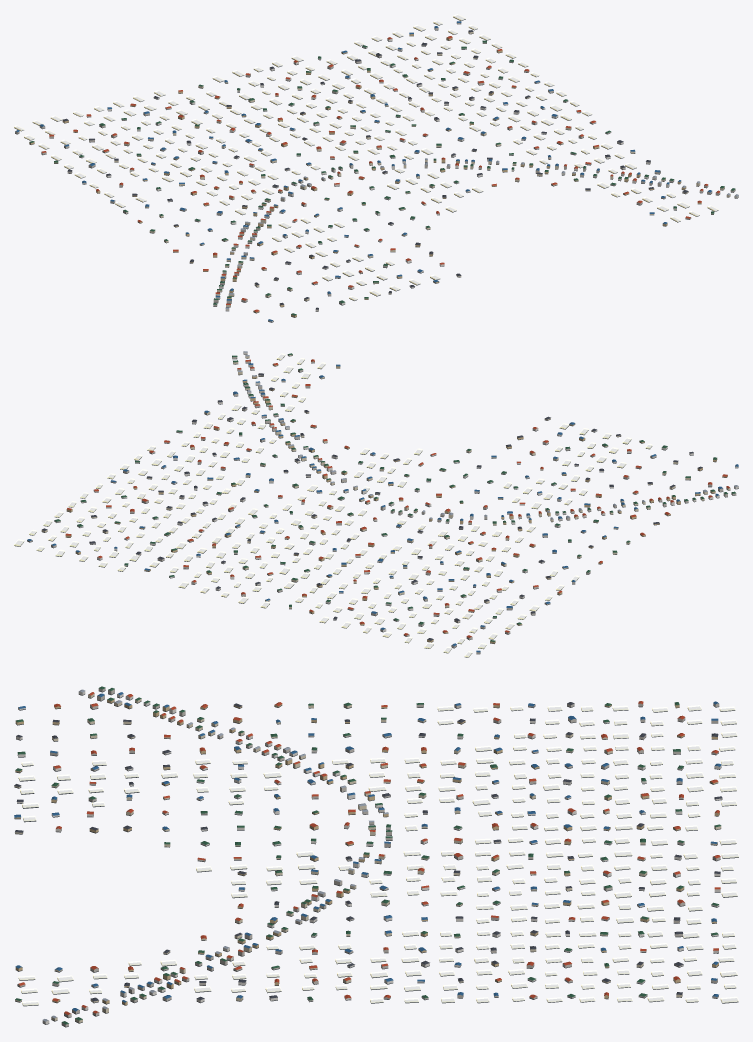
The model's file is buildings_T_W04_N05.glb.
3 renders of one model, top to bottom at view 1: azimuth 30°, elevation 25°; view 2: azimuth 150°, elevation 25°; view 3: azimuth 270°, elevation 25°, orthographic. The views are drawn at different scales.
Visible parts, largest first — view 1: T_W04_N05_roofs_agri_greenhouse_arch, T_W04_N05_slope_seating_foundations, T_W04_N05_walls_wall_pastel_sand_gray, T_W04_N05_walls_wall_modern_warm_white, T_W04_N05_roofs_roof_terracotta_gable, T_W04_N05_roofs_roof_pine_green_hip, T_W04_N05_walls_wall_french_ochre_villa, T_W04_N05_walls_wall_dalat_cream_stucco, T_W04_N05_roofs_roof_highland_blue_gable, T_W04_N05_roofs_roof_slate_French_villa_hip; view 2: T_W04_N05_roofs_agri_greenhouse_arch, T_W04_N05_slope_seating_foundations, T_W04_N05_walls_wall_pastel_sand_gray, T_W04_N05_walls_wall_french_ochre_villa, T_W04_N05_walls_wall_modern_warm_white, T_W04_N05_roofs_roof_terracotta_gable, T_W04_N05_roofs_roof_pine_green_hip, T_W04_N05_walls_wall_dalat_cream_stucco, T_W04_N05_roofs_roof_highland_blue_gable, T_W04_N05_roofs_roof_slate_French_villa_hip; view 3: T_W04_N05_roofs_agri_greenhouse_arch, T_W04_N05_slope_seating_foundations, T_W04_N05_walls_wall_pastel_sand_gray, T_W04_N05_walls_wall_modern_warm_white, T_W04_N05_walls_wall_french_ochre_villa, T_W04_N05_roofs_roof_terracotta_gable, T_W04_N05_roofs_roof_pine_green_hip, T_W04_N05_walls_wall_dalat_cream_stucco, T_W04_N05_roofs_roof_highland_blue_gable, T_W04_N05_roofs_roof_slate_French_villa_hip.
Part boxes in pixels (bbox=[...]): T_W04_N05_roofs_agri_greenhouse_arch: bbox=[14, 14, 718, 300]; T_W04_N05_slope_seating_foundations: bbox=[14, 16, 738, 322]; T_W04_N05_walls_wall_pastel_sand_gray: bbox=[15, 22, 735, 306]; T_W04_N05_walls_wall_modern_warm_white: bbox=[79, 38, 738, 322]; T_W04_N05_roofs_roof_terracotta_gable: bbox=[42, 36, 720, 311]; T_W04_N05_roofs_roof_pine_green_hip: bbox=[29, 40, 735, 315]; T_W04_N05_walls_wall_french_ochre_villa: bbox=[29, 34, 701, 317]; T_W04_N05_walls_wall_dalat_cream_stucco: bbox=[102, 31, 730, 306]; T_W04_N05_roofs_roof_highland_blue_gable: bbox=[15, 21, 711, 321]; T_W04_N05_roofs_roof_slate_French_villa_hip: bbox=[62, 30, 688, 309]; T_W04_N05_roofs_agri_greenhouse_arch: bbox=[14, 353, 652, 657]; T_W04_N05_slope_seating_foundations: bbox=[14, 354, 738, 657]; T_W04_N05_walls_wall_pastel_sand_gray: bbox=[27, 357, 736, 653]; T_W04_N05_walls_wall_french_ochre_villa: bbox=[65, 364, 727, 643]; T_W04_N05_walls_wall_modern_warm_white: bbox=[77, 351, 738, 631]; T_W04_N05_roofs_roof_terracotta_gable: bbox=[65, 359, 729, 637]; T_W04_N05_roofs_roof_pine_green_hip: bbox=[54, 353, 735, 641]; T_W04_N05_walls_wall_dalat_cream_stucco: bbox=[41, 354, 730, 612]; T_W04_N05_roofs_roof_highland_blue_gable: bbox=[27, 363, 738, 652]; T_W04_N05_roofs_roof_slate_French_villa_hip: bbox=[42, 373, 702, 640]; T_W04_N05_roofs_agri_greenhouse_arch: bbox=[18, 705, 738, 1005]; T_W04_N05_slope_seating_foundations: bbox=[14, 690, 738, 1027]; T_W04_N05_walls_wall_pastel_sand_gray: bbox=[17, 688, 720, 1026]; T_W04_N05_walls_wall_modern_warm_white: bbox=[16, 691, 722, 1024]; T_W04_N05_walls_wall_french_ochre_villa: bbox=[14, 699, 719, 1005]; T_W04_N05_roofs_roof_terracotta_gable: bbox=[18, 692, 720, 1014]; T_W04_N05_roofs_roof_pine_green_hip: bbox=[15, 686, 721, 1024]; T_W04_N05_walls_wall_dalat_cream_stucco: bbox=[14, 693, 721, 1022]; T_W04_N05_roofs_roof_highland_blue_gable: bbox=[14, 692, 721, 1011]; T_W04_N05_roofs_roof_slate_French_villa_hip: bbox=[14, 702, 722, 1001].
Bounding box in the file's own units: 1931 × 29.46 × 1740.
